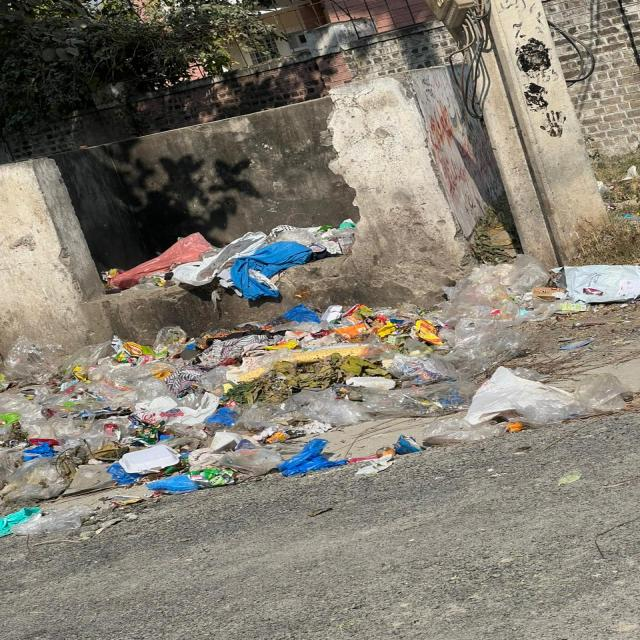garbage: (4, 224, 624, 503)
